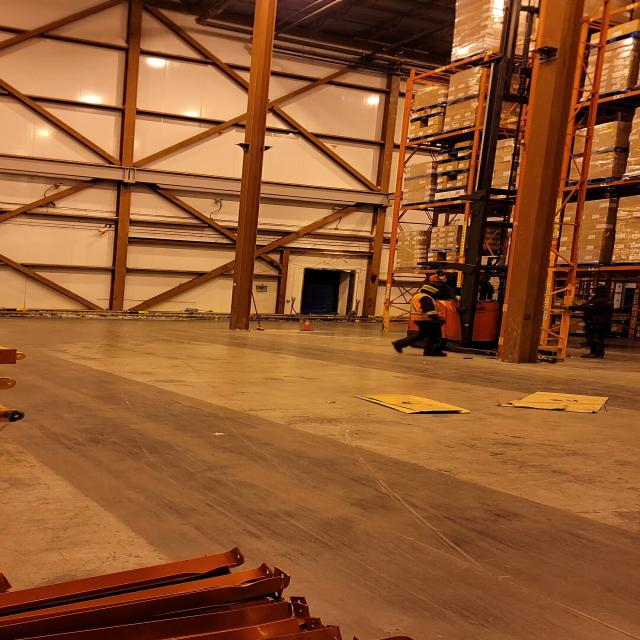forklift: (399, 191, 570, 366)
human: (389, 284, 446, 357), (570, 276, 616, 360), (414, 271, 459, 298)
objectofinterest: (489, 28, 579, 362), (496, 386, 608, 414), (352, 392, 476, 415)
